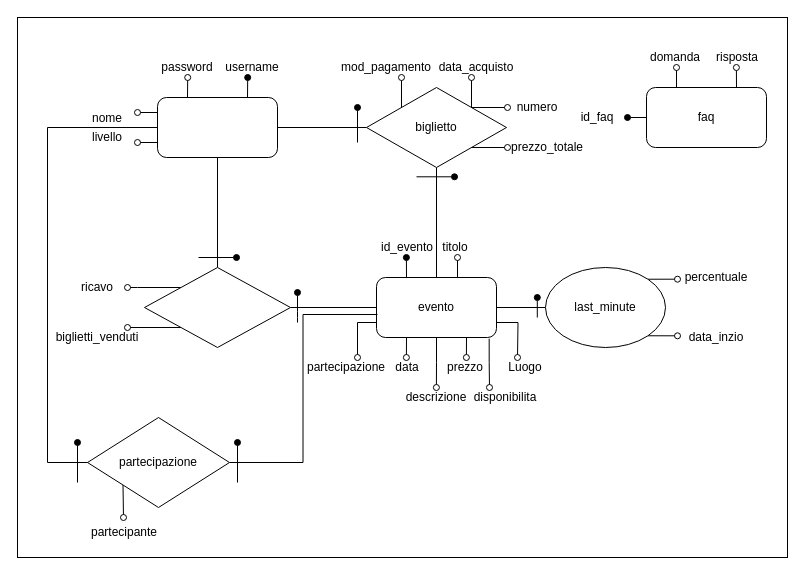
The diagram is 805 pixels wide and 575 high, and some of its shapes have lost their labels. Each missing label, with the centre of its shape:
"analisi" goes at (217,307).
"utente" goes at (217,127).
